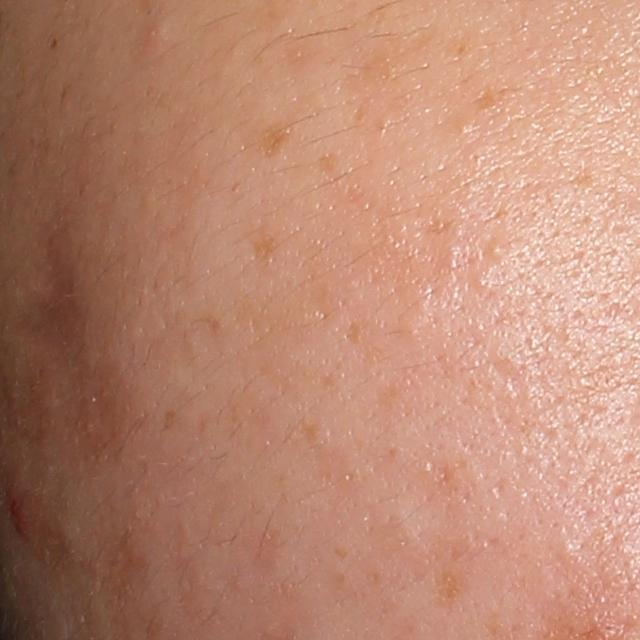comedo: (136, 13, 185, 56), (479, 233, 511, 261)
papule: (3, 489, 39, 546)
